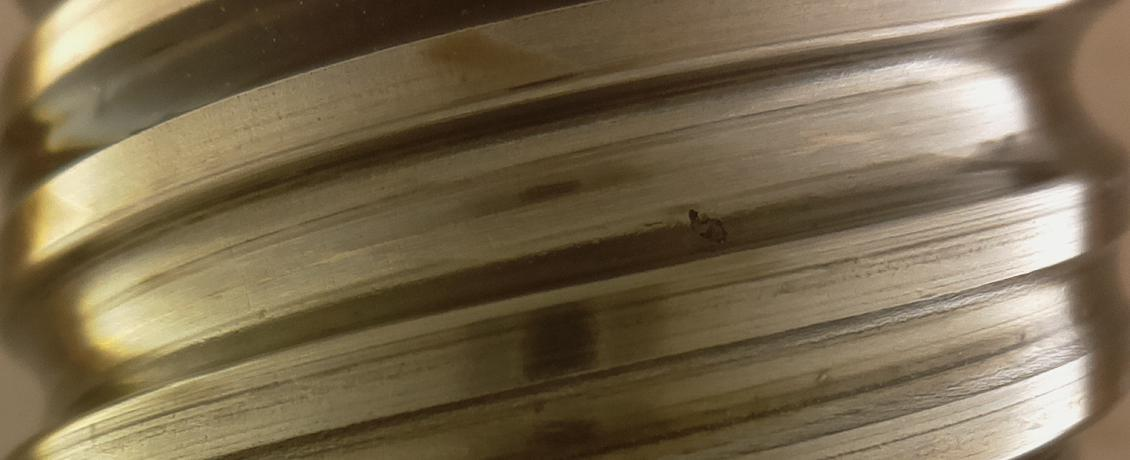pitting: (687, 208, 726, 242)
